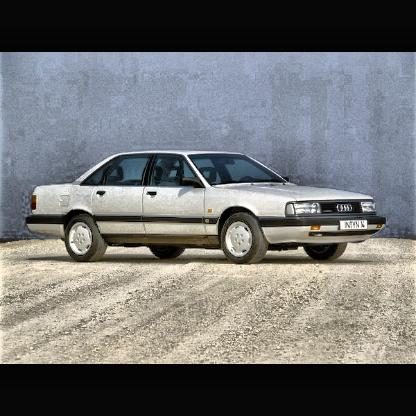Audi 100 Sedan 1994: (27, 152, 388, 267)
